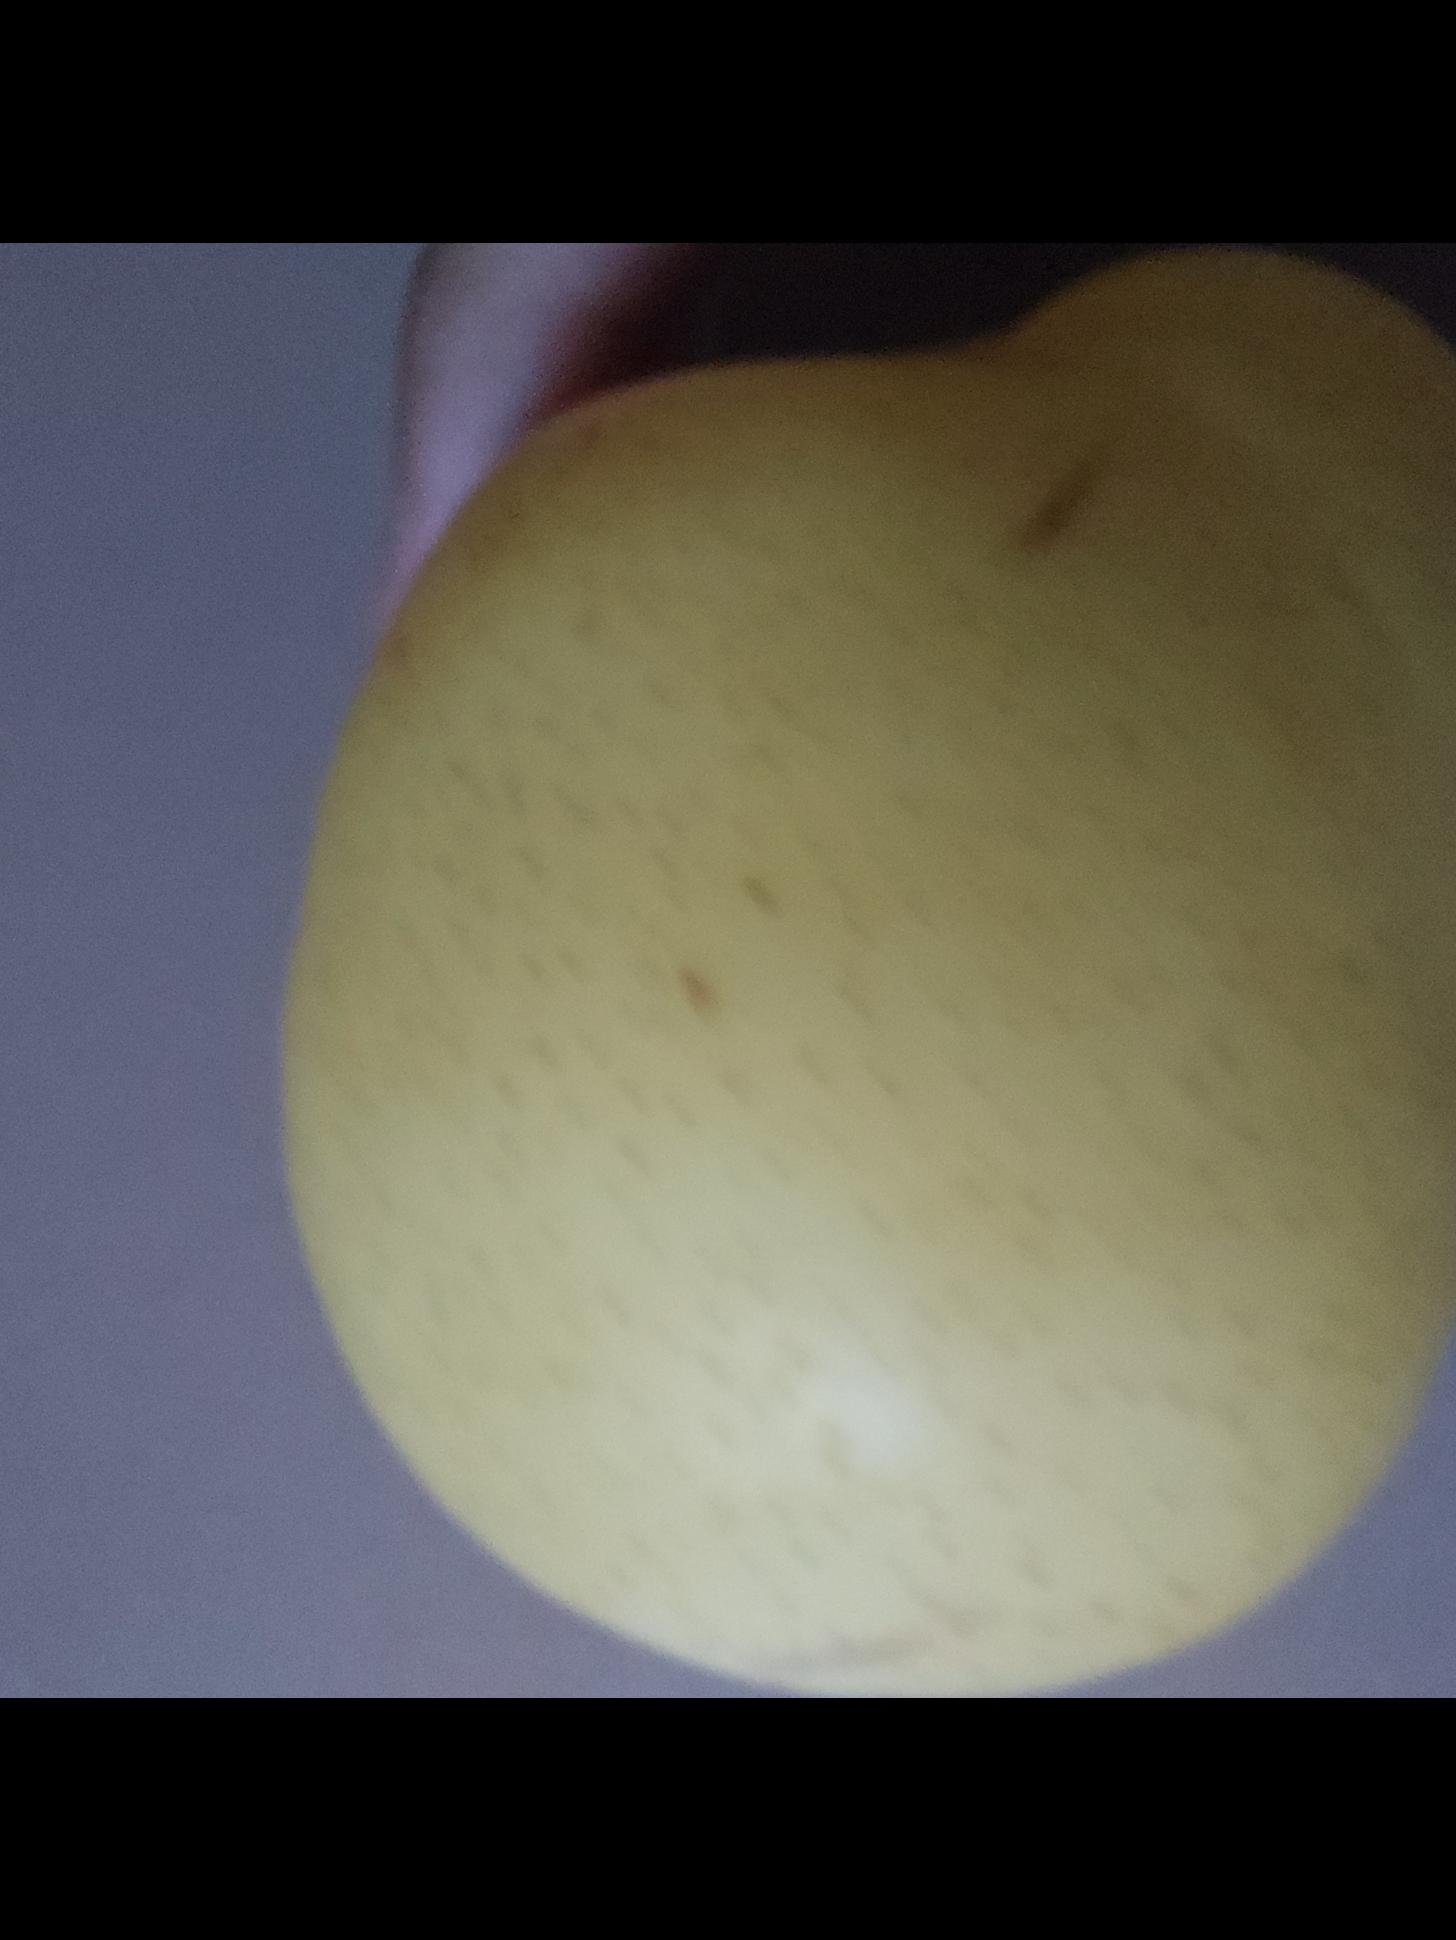Good Pear: (274, 255, 1456, 1698)
